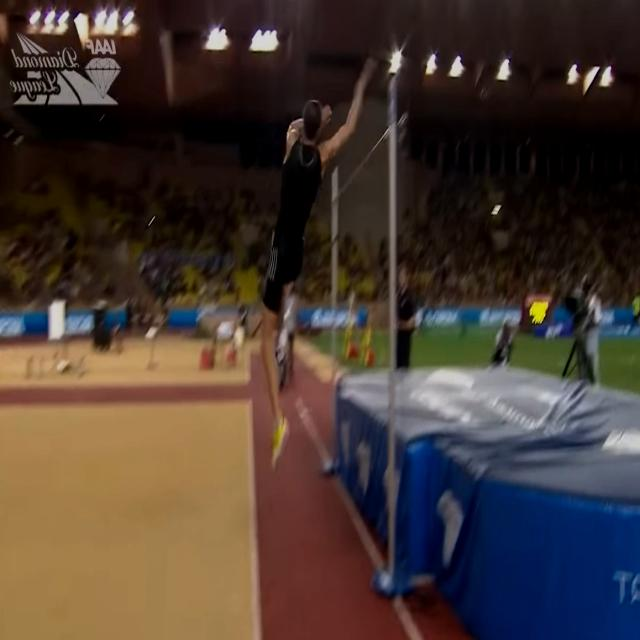jump: (264, 57, 377, 470)
